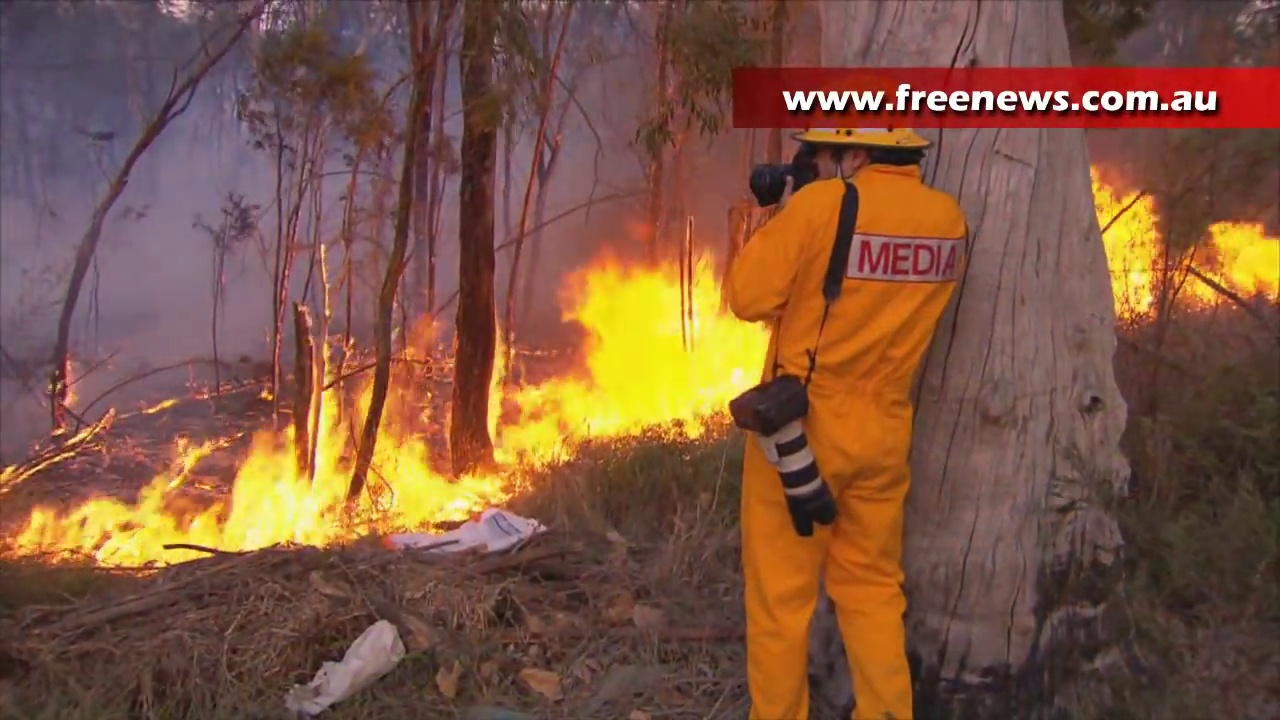fire: (7, 382, 454, 564), (489, 259, 766, 463), (1097, 167, 1280, 306)
